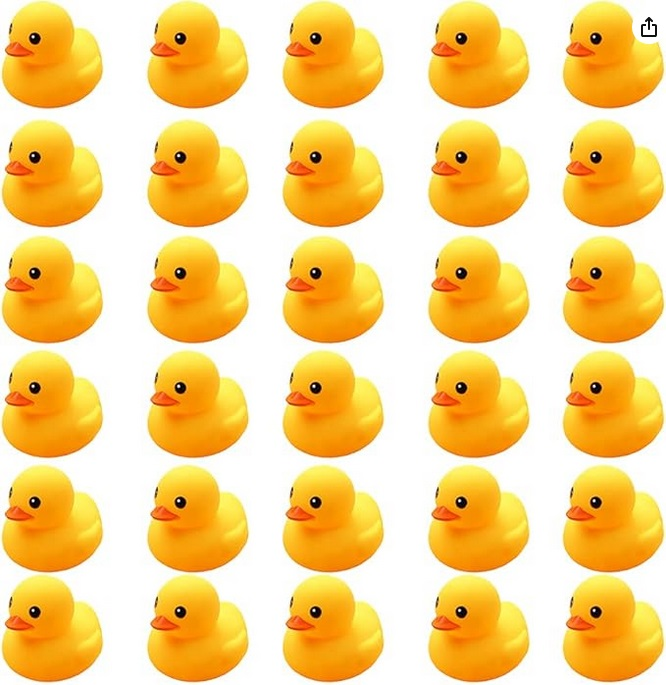duck_regular: (0, 350, 104, 462), (146, 234, 250, 344), (147, 462, 249, 573), (563, 461, 664, 573), (146, 0, 250, 108), (0, 465, 104, 573), (427, 465, 531, 573), (562, 576, 666, 684), (0, 0, 103, 109), (428, 234, 530, 344), (283, 234, 384, 345), (562, 0, 666, 107), (427, 351, 530, 459), (427, 0, 530, 108), (282, 350, 384, 459), (1, 119, 103, 228), (563, 235, 665, 344), (562, 118, 664, 227), (427, 574, 527, 685), (0, 575, 104, 681), (147, 350, 249, 458), (563, 348, 665, 456), (1, 236, 103, 343), (281, 466, 382, 573), (283, 1, 384, 108), (148, 120, 249, 227), (283, 576, 384, 681), (428, 120, 528, 226), (282, 122, 384, 224), (148, 578, 247, 682)
